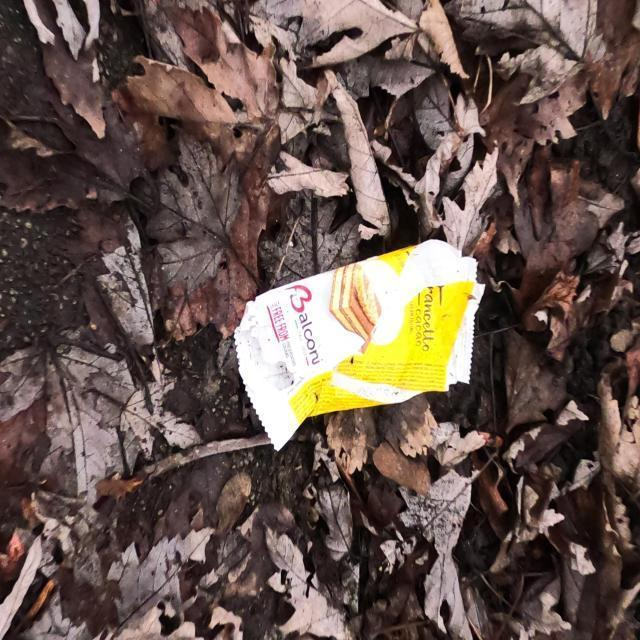Plastic: (234, 236, 486, 453)
